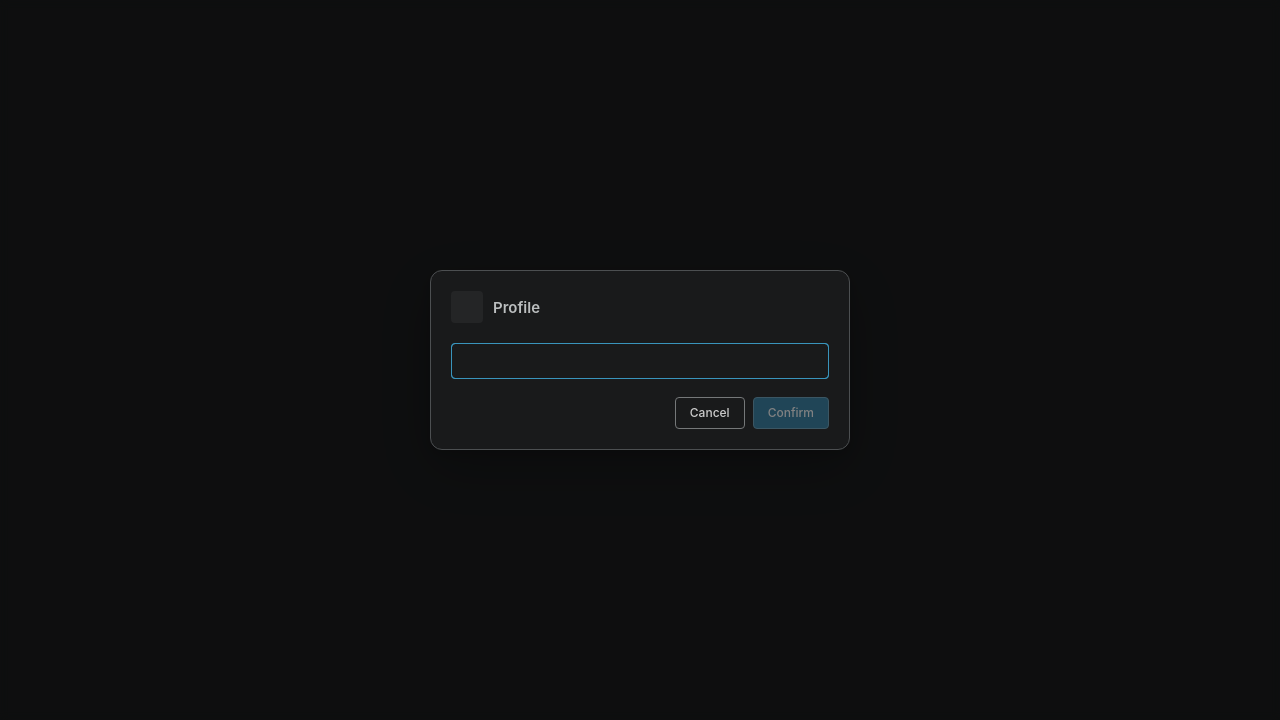
DialogHost identity prompts › retains reserved-name validation feedback without dismissing the prompt
Type "Global" into the field at (640, 361), box [451,343,829,379]
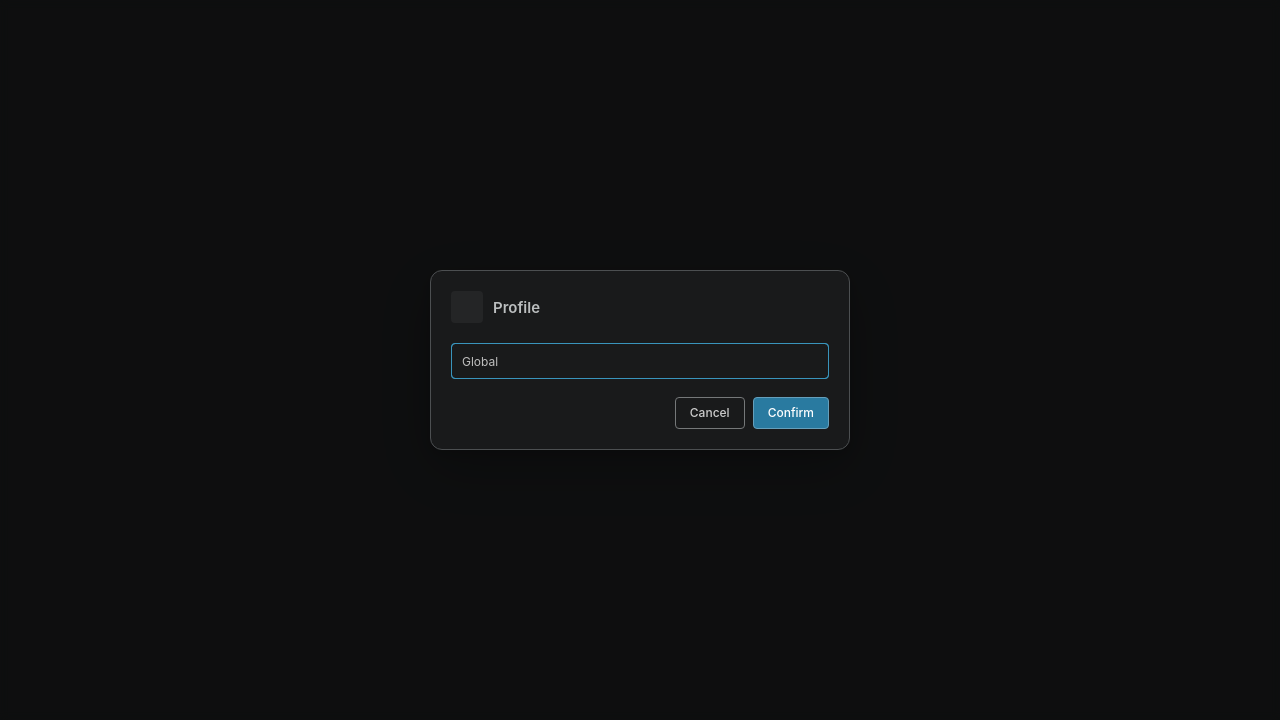
Click the button "Confirm" at (791, 413), box [753,397,829,429]
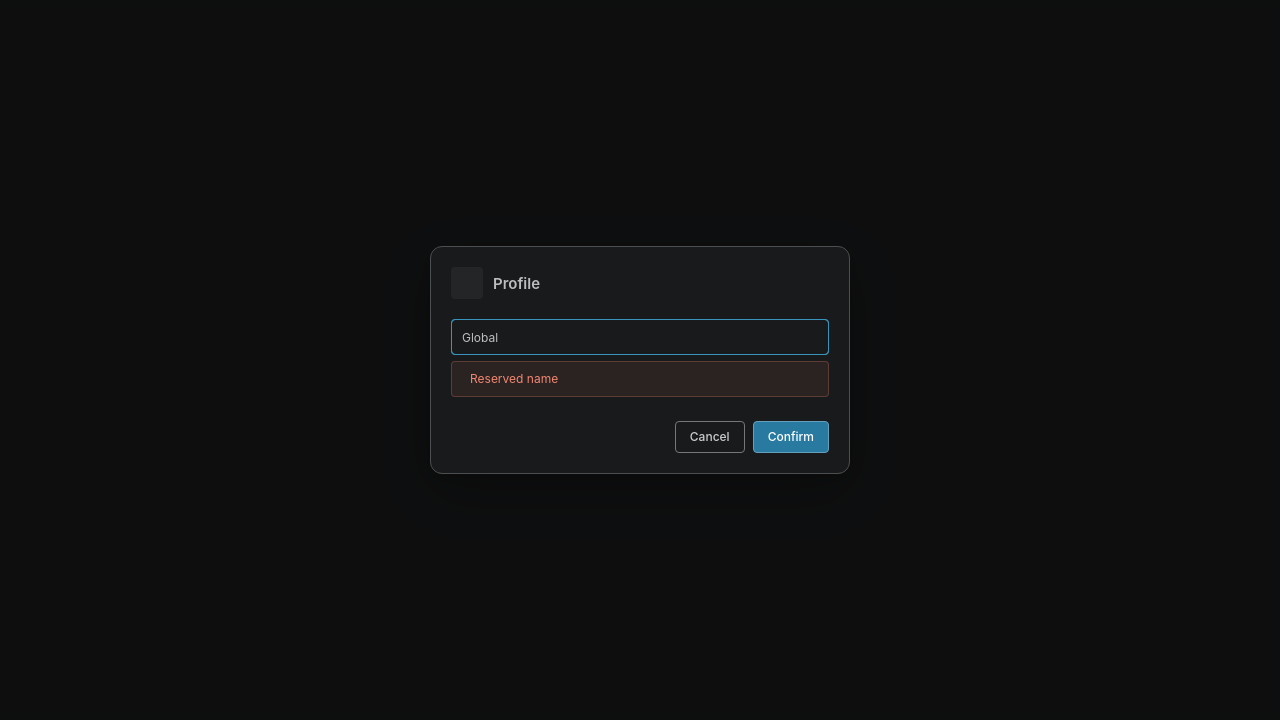
Expected: the dialog is shown, [430,246,850,474]
Result: the text "Reserved name" is shown at [470,371,558,386]
